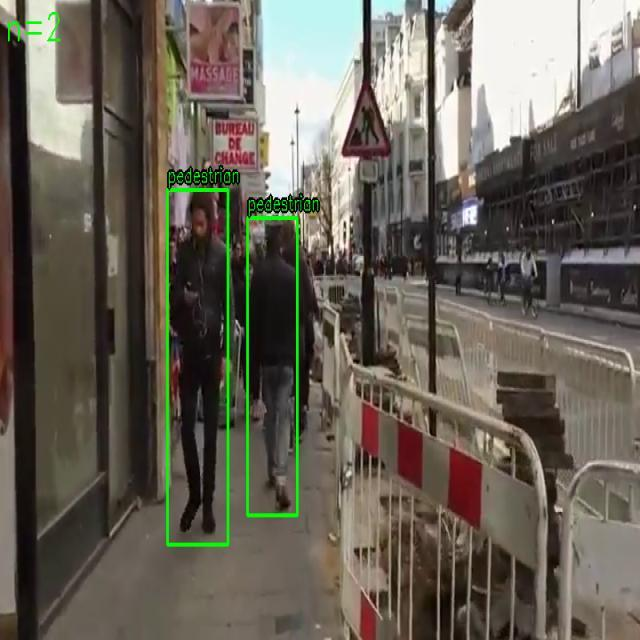with scooter: (167, 190, 229, 546), (247, 217, 298, 516)
